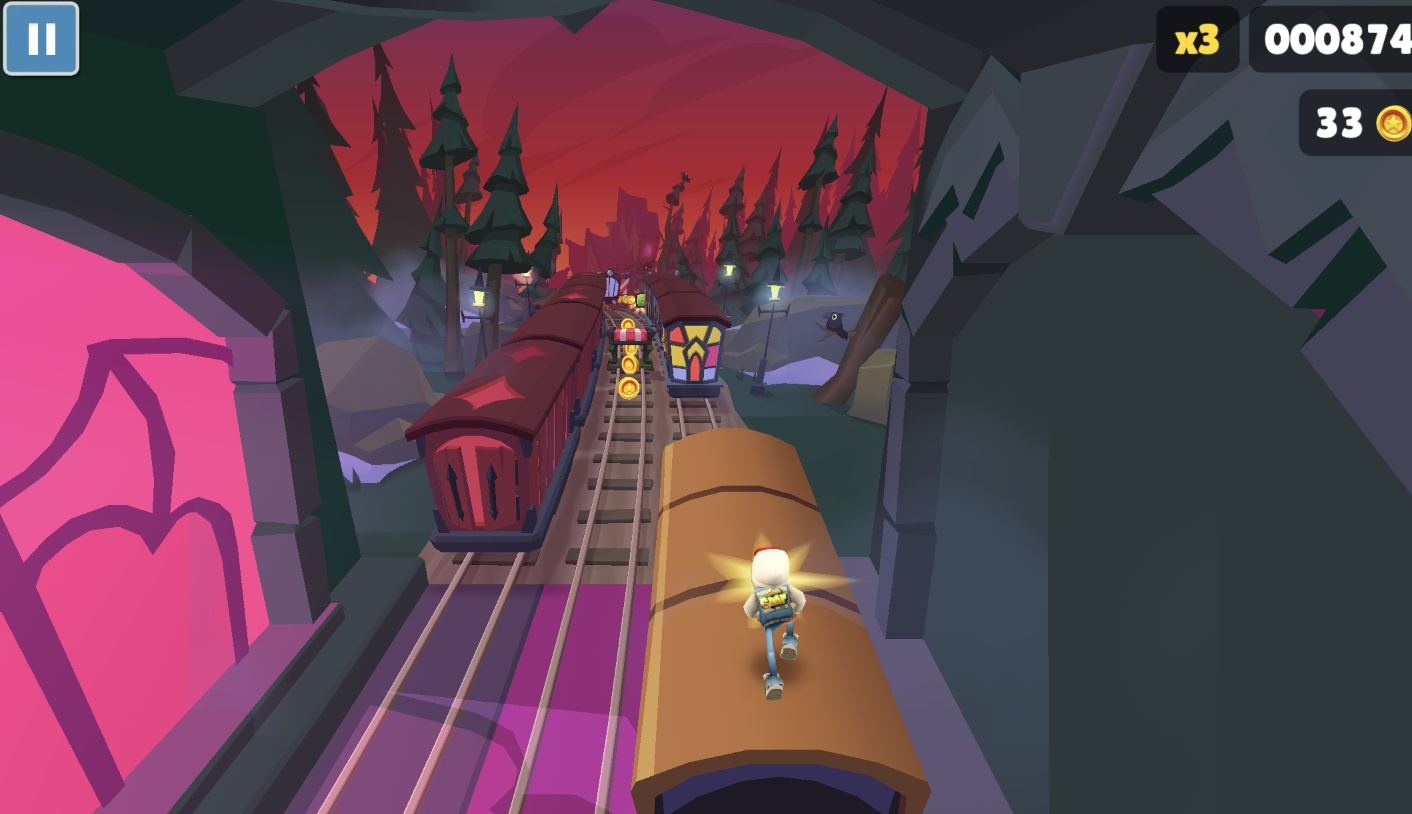ground_barrier: (608, 326, 651, 367)
overhead_barrier: (619, 271, 632, 296)
train: (633, 428, 932, 814), (405, 274, 609, 553), (641, 275, 733, 399), (603, 268, 627, 302)
